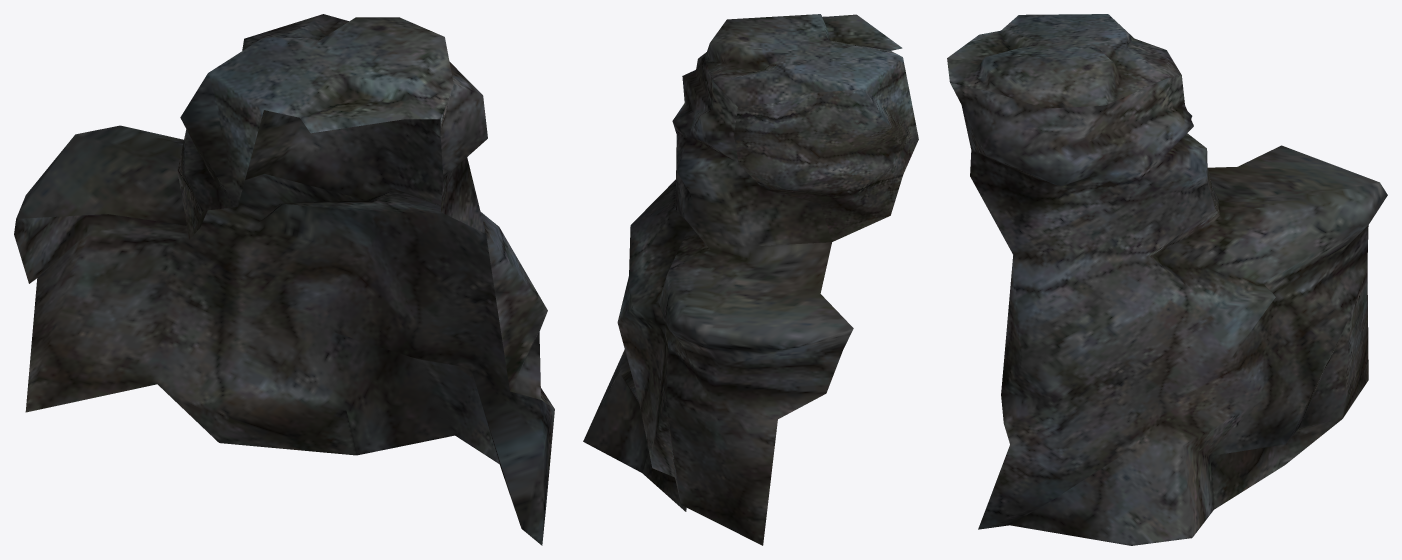
Rendered from S_Rock_Yellow034_H48.FBX.
3 views of the same model, side by side, from view 1: azimuth 30°, elevation 25°; view 2: azimuth 150°, elevation 25°; view 3: azimuth 270°, elevation 25° (orthographic). The views are drawn at different scales.
Parts seen in each view (by area): view 1: S_Rock_Yellow034_H48; view 2: S_Rock_Yellow034_H48; view 3: S_Rock_Yellow034_H48.
Boxes of the visible parts, x1,y1,x2,y2 form: S_Rock_Yellow034_H48: (14,14,554,545); S_Rock_Yellow034_H48: (583,14,918,545); S_Rock_Yellow034_H48: (947,14,1387,545).
Size of the model in its own units: 1107 by 1256 by 1328.
Materials: 1 (1 with a texture image).
